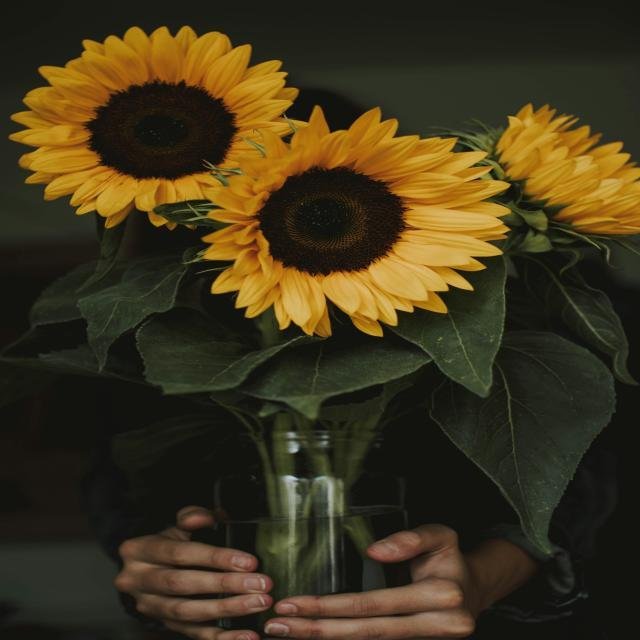sunflower: (198, 104, 512, 338), (8, 24, 307, 230), (486, 102, 640, 235)
